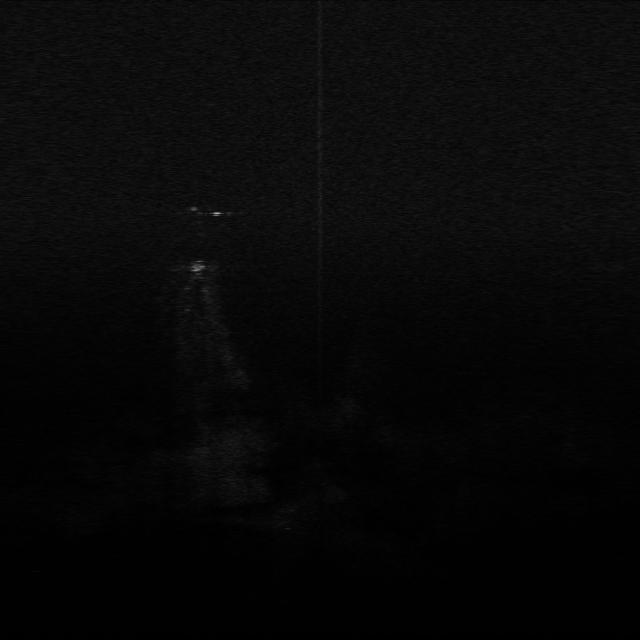rov: (187, 259, 209, 276)
